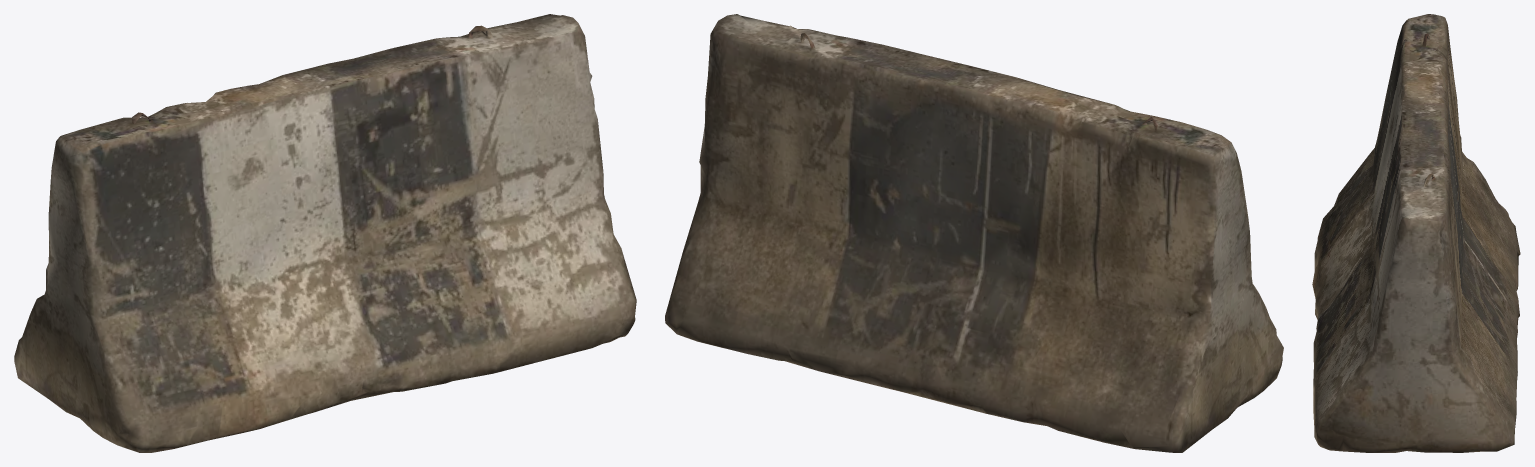
Rendered from concrete_road_barrier.glb.
3 renders of one model, left to right at view 1: azimuth 30°, elevation 25°; view 2: azimuth 150°, elevation 25°; view 3: azimuth 270°, elevation 25°, orthographic. The views are drawn at different scales.
Parts seen in each view (by area): view 1: concrete_road_barrier; view 2: concrete_road_barrier; view 3: concrete_road_barrier.
Part boxes in pixels (box(x1,y1,x2,y2)): concrete_road_barrier: box(14, 14, 636, 452); concrete_road_barrier: box(665, 14, 1283, 452); concrete_road_barrier: box(1312, 14, 1520, 452).
Size of the model in its own units: 1.54 by 0.8303 by 0.6387.
Materials: 1 (1 with a texture image).
